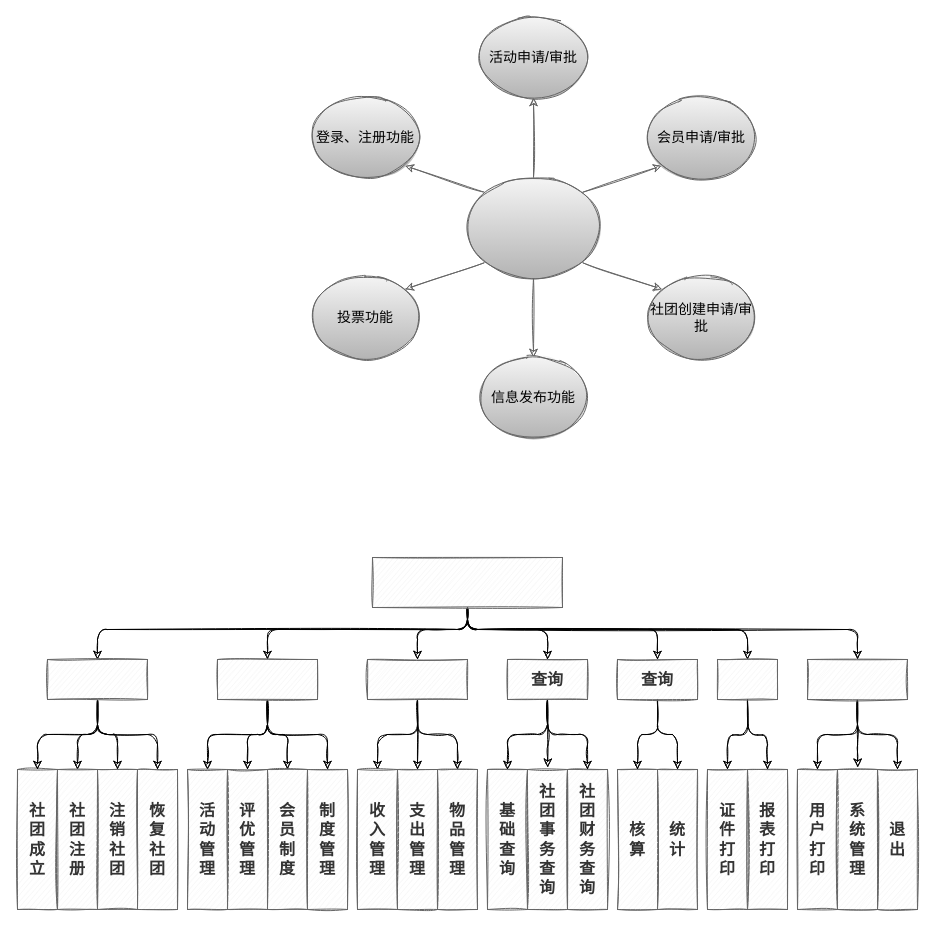
This 935x927 diagram has some shape labels left out. The centre of each missing label's shape, as x and y in pixels:
"功能模块" goes at point (533, 227).
"基础申请" goes at point (97, 679).
"打印" goes at point (747, 679).
"校园社团管理系统" goes at point (467, 582).
"社团事务管理" goes at point (267, 679).
"社团财务管理" goes at point (417, 679).
"系统设置" goes at point (857, 679).
